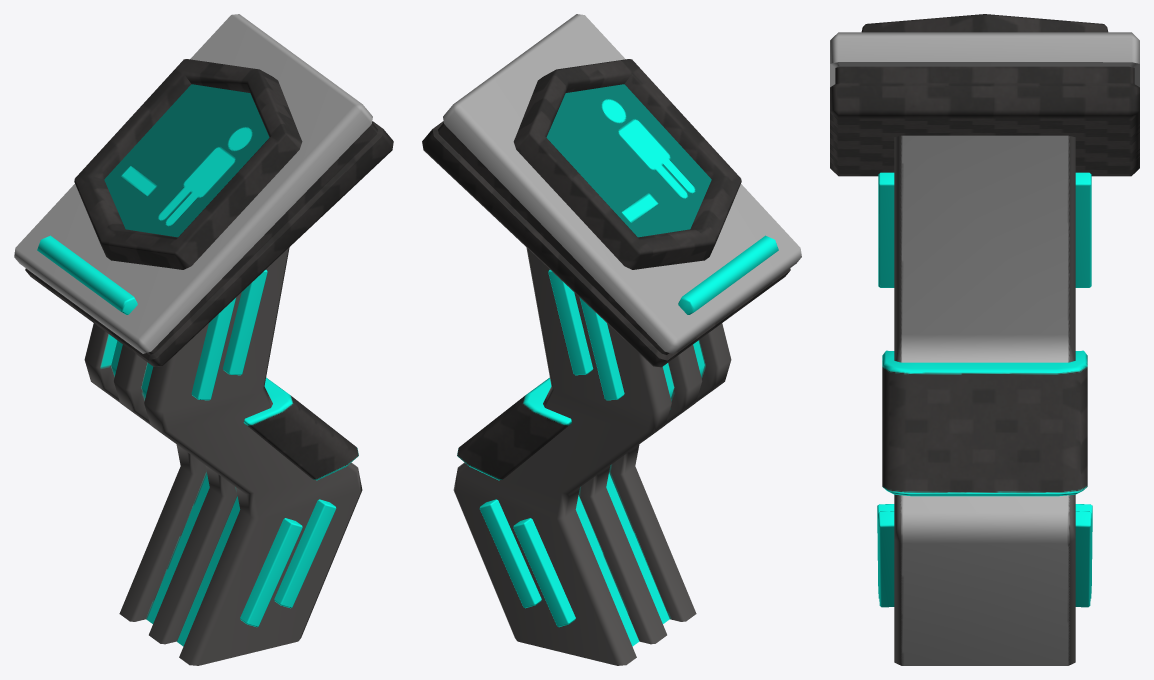
File: SM_Props_04.fbx
3 views of the same model, side by side, from view 1: azimuth 30°, elevation 25°; view 2: azimuth 150°, elevation 25°; view 3: azimuth 270°, elevation 25° (orthographic). The views are drawn at different scales.
Parts seen in each view (by area): view 1: SM_Props_04; view 2: SM_Props_04; view 3: SM_Props_04.
Part boxes in pixels (x1=…): SM_Props_04: x1=14, y1=14, x2=393, y2=665; SM_Props_04: x1=422, y1=14, x2=801, y2=665; SM_Props_04: x1=830, y1=14, x2=1139, y2=665.
Size of the model in its own units: 56.18 by 49.4 by 114.
1 material, 1 textured.
